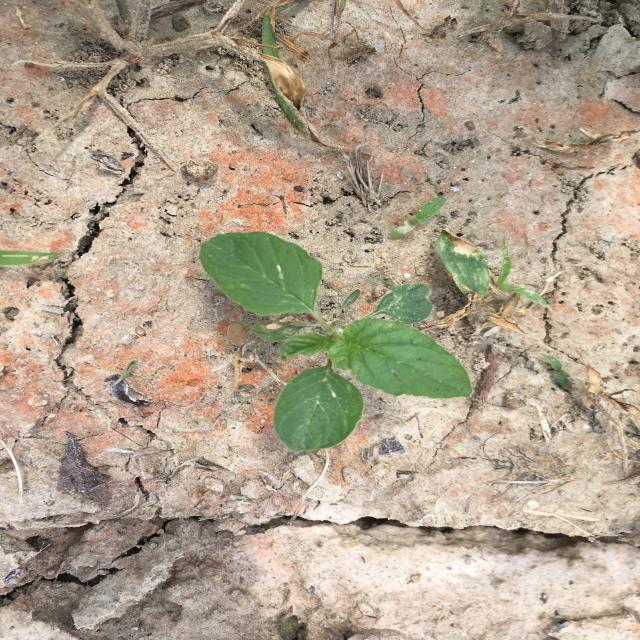PalmerAmaranth: (199, 231, 473, 452)
